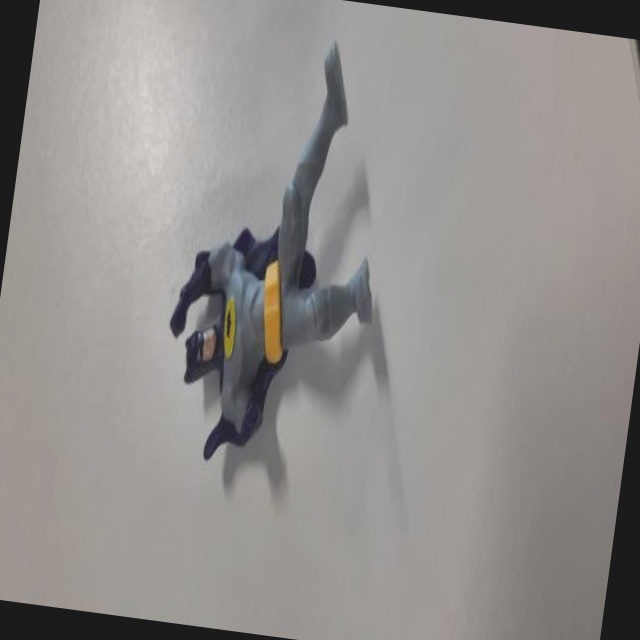Batman: (152, 20, 412, 481)
